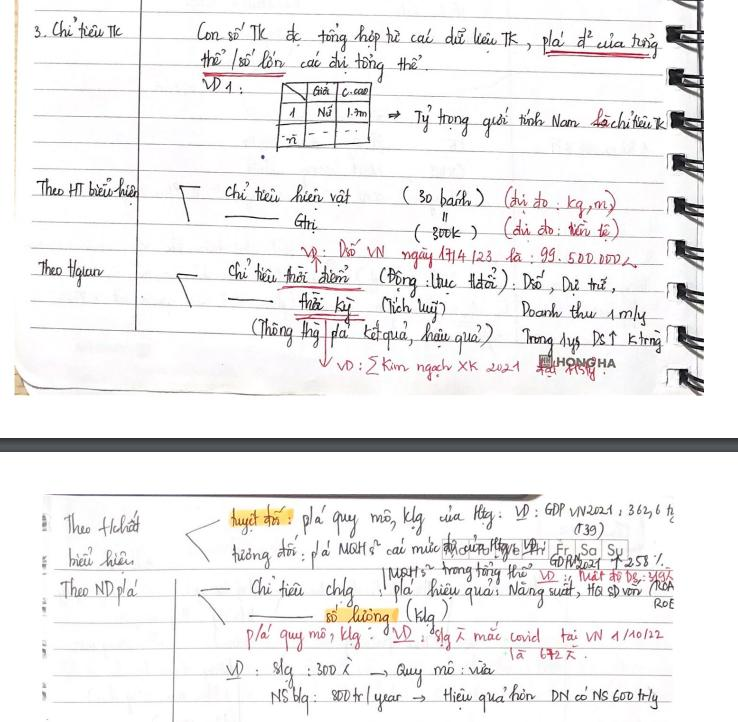text: (227, 498, 676, 539), (192, 24, 663, 59), (225, 255, 618, 296), (247, 574, 681, 608), (268, 682, 662, 717), (245, 623, 668, 655), (228, 533, 547, 571), (298, 237, 639, 270), (411, 100, 670, 138), (249, 317, 497, 356), (222, 654, 497, 689), (199, 47, 429, 84), (398, 181, 619, 218), (385, 560, 678, 585), (333, 356, 601, 381), (411, 216, 622, 245), (295, 288, 449, 323), (520, 327, 667, 360), (324, 598, 451, 633), (223, 178, 353, 212), (518, 298, 649, 329), (33, 175, 140, 207), (57, 574, 140, 607), (34, 255, 108, 289), (31, 16, 126, 42), (60, 509, 142, 539), (547, 552, 666, 571), (64, 544, 136, 572), (507, 645, 575, 663), (552, 355, 621, 370), (196, 75, 248, 94), (292, 214, 322, 236), (311, 82, 336, 99), (340, 85, 370, 99), (344, 105, 369, 121), (314, 104, 334, 119), (286, 131, 299, 146), (286, 107, 301, 119)
